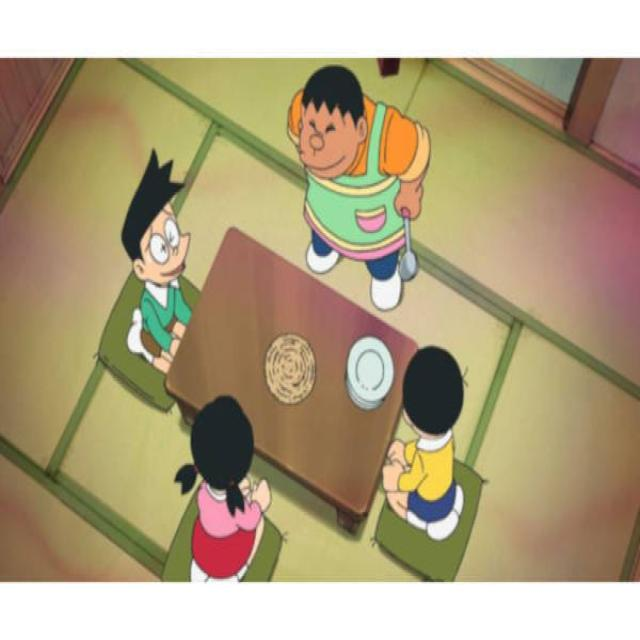jaian: (279, 61, 384, 198)
suneo: (111, 137, 204, 322)
